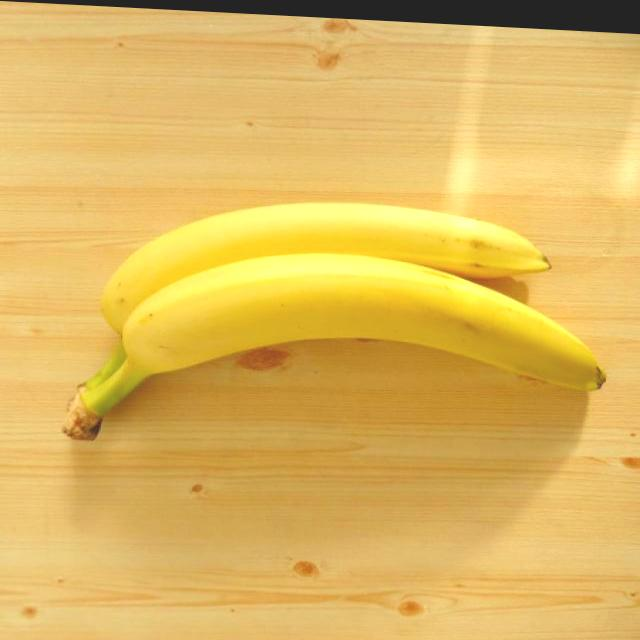banana: (54, 181, 611, 474)
